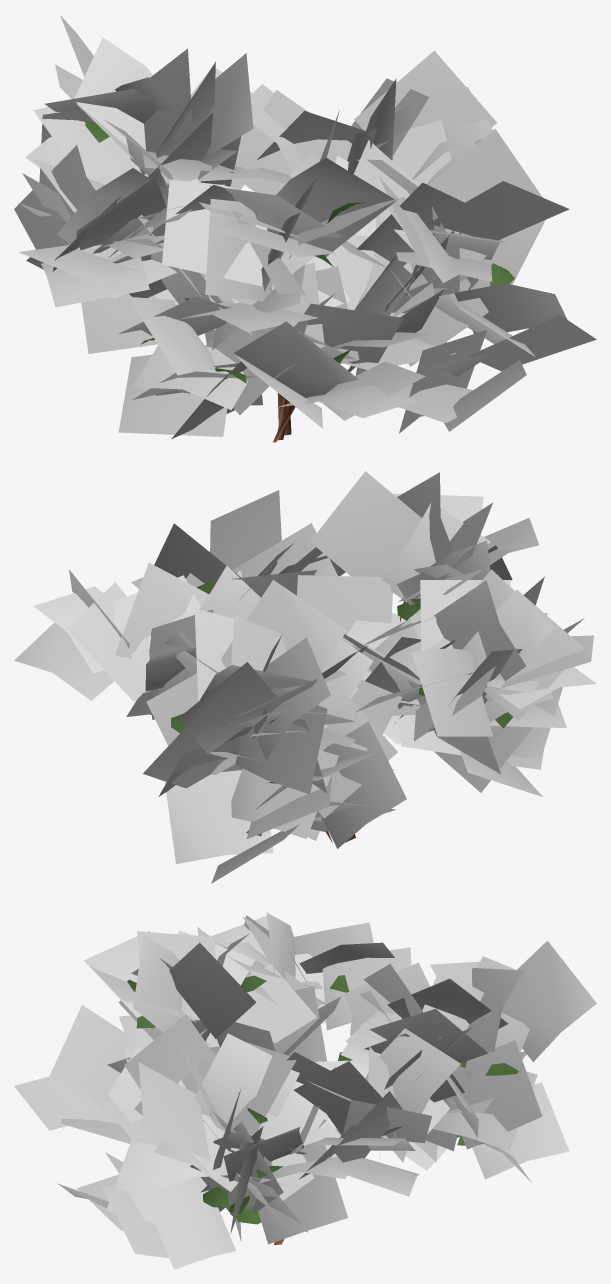
The model's file is Fond_Arbousier_1.fbx.
The picture shows the model from 3 angles, top to bottom: view 1: azimuth 30°, elevation 25°; view 2: azimuth 150°, elevation 25°; view 3: azimuth 270°, elevation 25°; orthographic projection. The views are drawn at different scales.
Parts seen in each view (by area): view 1: Fond_Arbousier_1; view 2: Fond_Arbousier_1; view 3: Fond_Arbousier_1.
Part boxes in pixels (bbox=[...]): Fond_Arbousier_1: bbox=[14, 15, 596, 442]; Fond_Arbousier_1: bbox=[14, 471, 596, 883]; Fond_Arbousier_1: bbox=[14, 912, 596, 1269].
Size of the model in its own units: 515 by 332 by 569.
